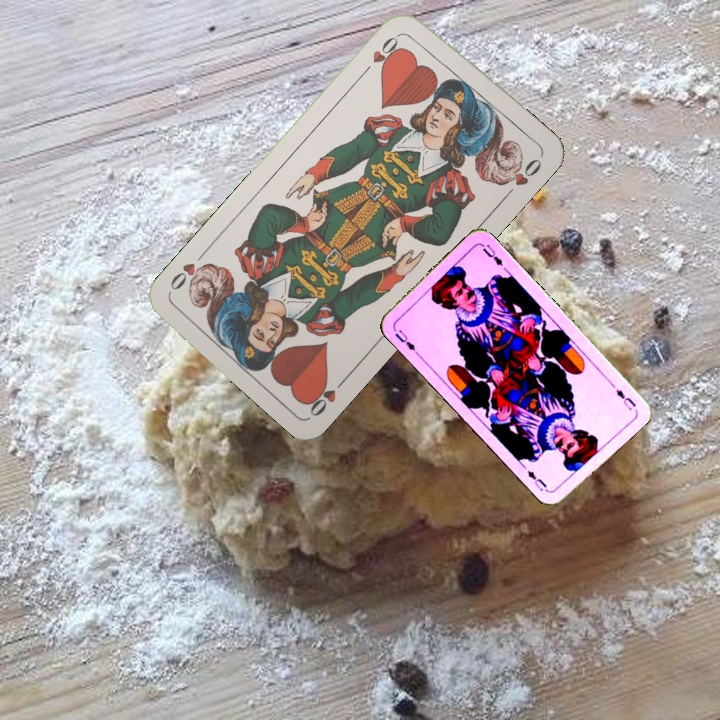EU: (391, 325, 421, 357), (612, 385, 639, 413)
HO: (303, 371, 352, 419), (358, 29, 405, 77)
